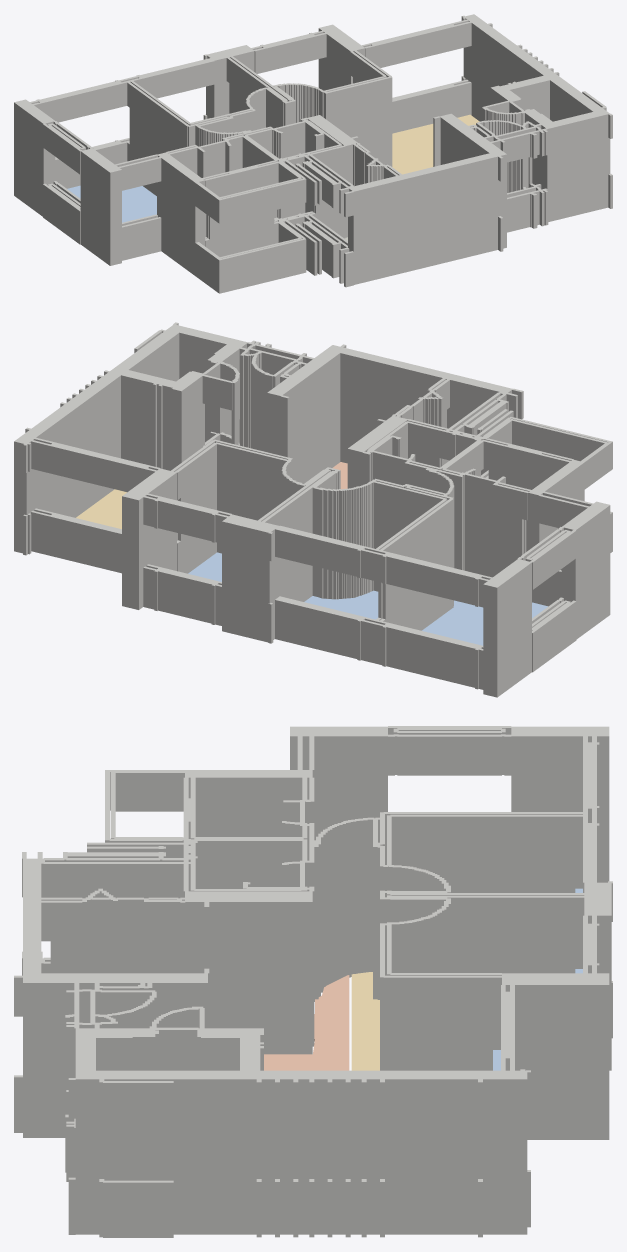
3 renders of one model, top to bottom at view 1: azimuth 30°, elevation 25°; view 2: azimuth 150°, elevation 25°; view 3: azimuth 270°, elevation 25°, orthographic. The views are drawn at different scales.
Visible parts, largest first — view 1: walls, room:living:4, room:bedroom:0; view 2: walls, room:bedroom:0, room:bedroom:1, room:living:4, room:bedroom:9; view 3: walls, room:kitchen:5, room:living:4.
Part boxes in pixels (x1,y1,x2,y2): walls: (14, 14, 612, 293); room:living:4: (392, 114, 479, 174); room:bedroom:0: (67, 185, 156, 222); walls: (14, 322, 612, 697); room:bedroom:0: (422, 600, 547, 645); room:bedroom:1: (304, 590, 378, 619); room:living:4: (76, 489, 126, 529); room:bedroom:9: (188, 552, 221, 581); walls: (14, 726, 612, 1237); room:kitchen:5: (264, 975, 349, 1070); room:living:4: (351, 972, 379, 1070).
Bounding box in the file's own units: 13.82 × 2.8 × 9.81.
